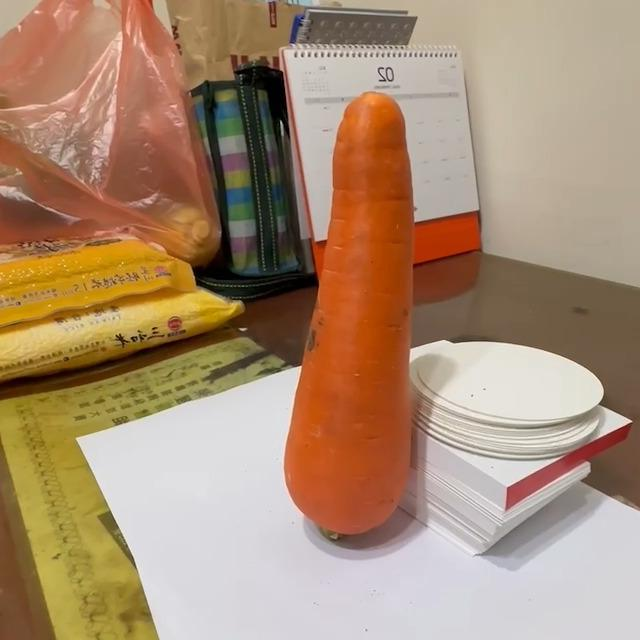carrot: (277, 97, 420, 548)
